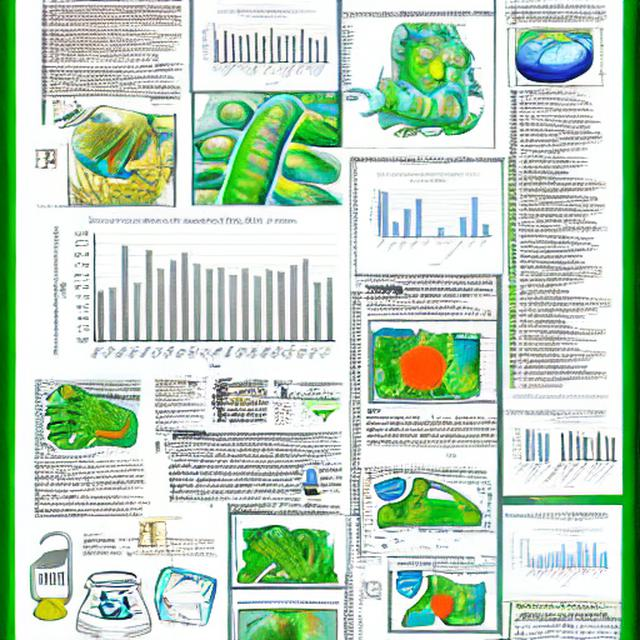Graph: (50, 210, 342, 375), (365, 169, 494, 269), (199, 7, 333, 87), (517, 525, 610, 590)
